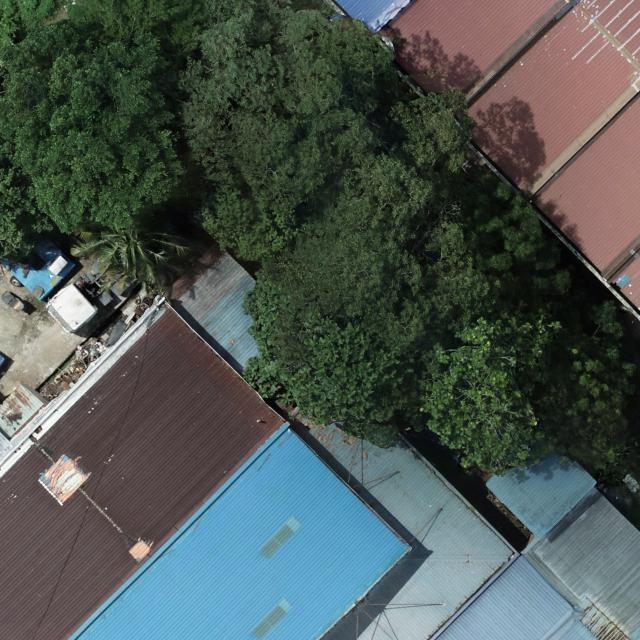Tree: (238, 153, 452, 450), (417, 296, 640, 482), (0, 16, 188, 233), (245, 8, 395, 204), (176, 12, 302, 197), (471, 168, 575, 300), (416, 209, 504, 333), (193, 184, 300, 262), (68, 227, 192, 286), (389, 86, 478, 168), (73, 0, 200, 51), (0, 149, 56, 260), (0, 0, 59, 34), (196, 0, 255, 25)
